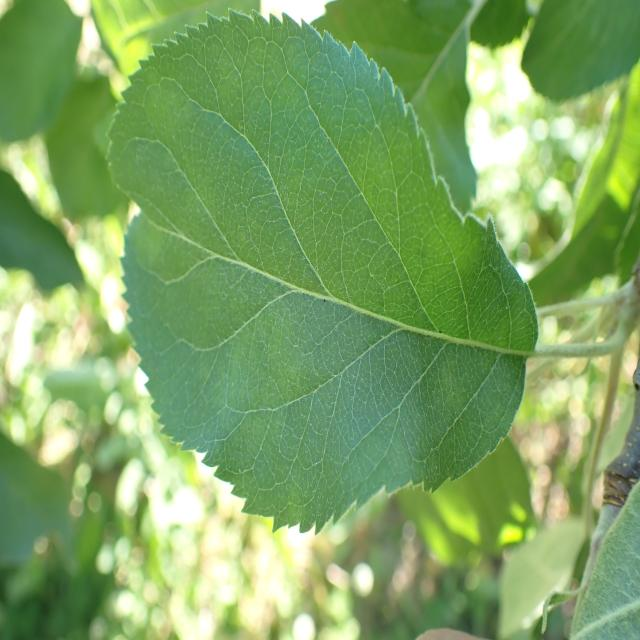healthy: (104, 7, 539, 537), (519, 0, 640, 104), (568, 480, 640, 639)
